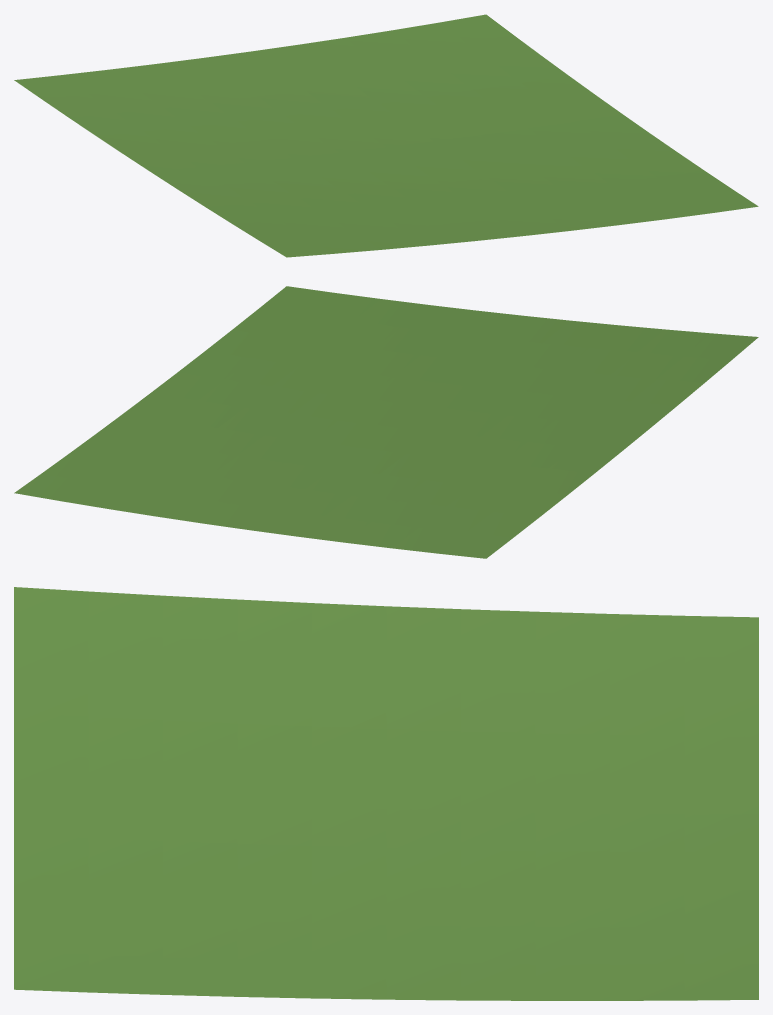
File: terrain-12-18.gltf
The picture shows the model from 3 angles, top to bottom: view 1: azimuth 30°, elevation 25°; view 2: azimuth 150°, elevation 25°; view 3: azimuth 270°, elevation 25°; orthographic projection. The views are drawn at different scales.
Bounding box in the file's own units: 50 × 7.34 × 50.
